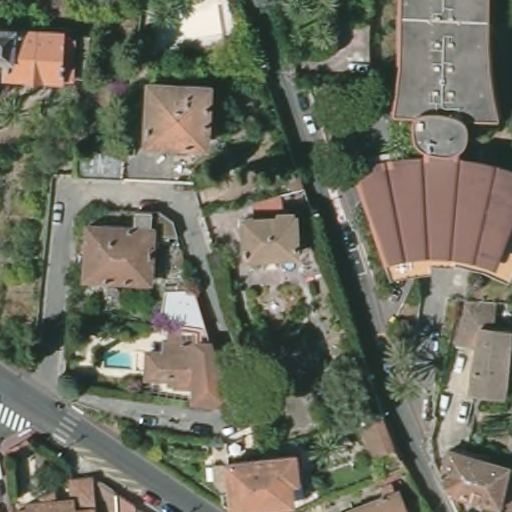pool: (97, 342, 140, 373)
